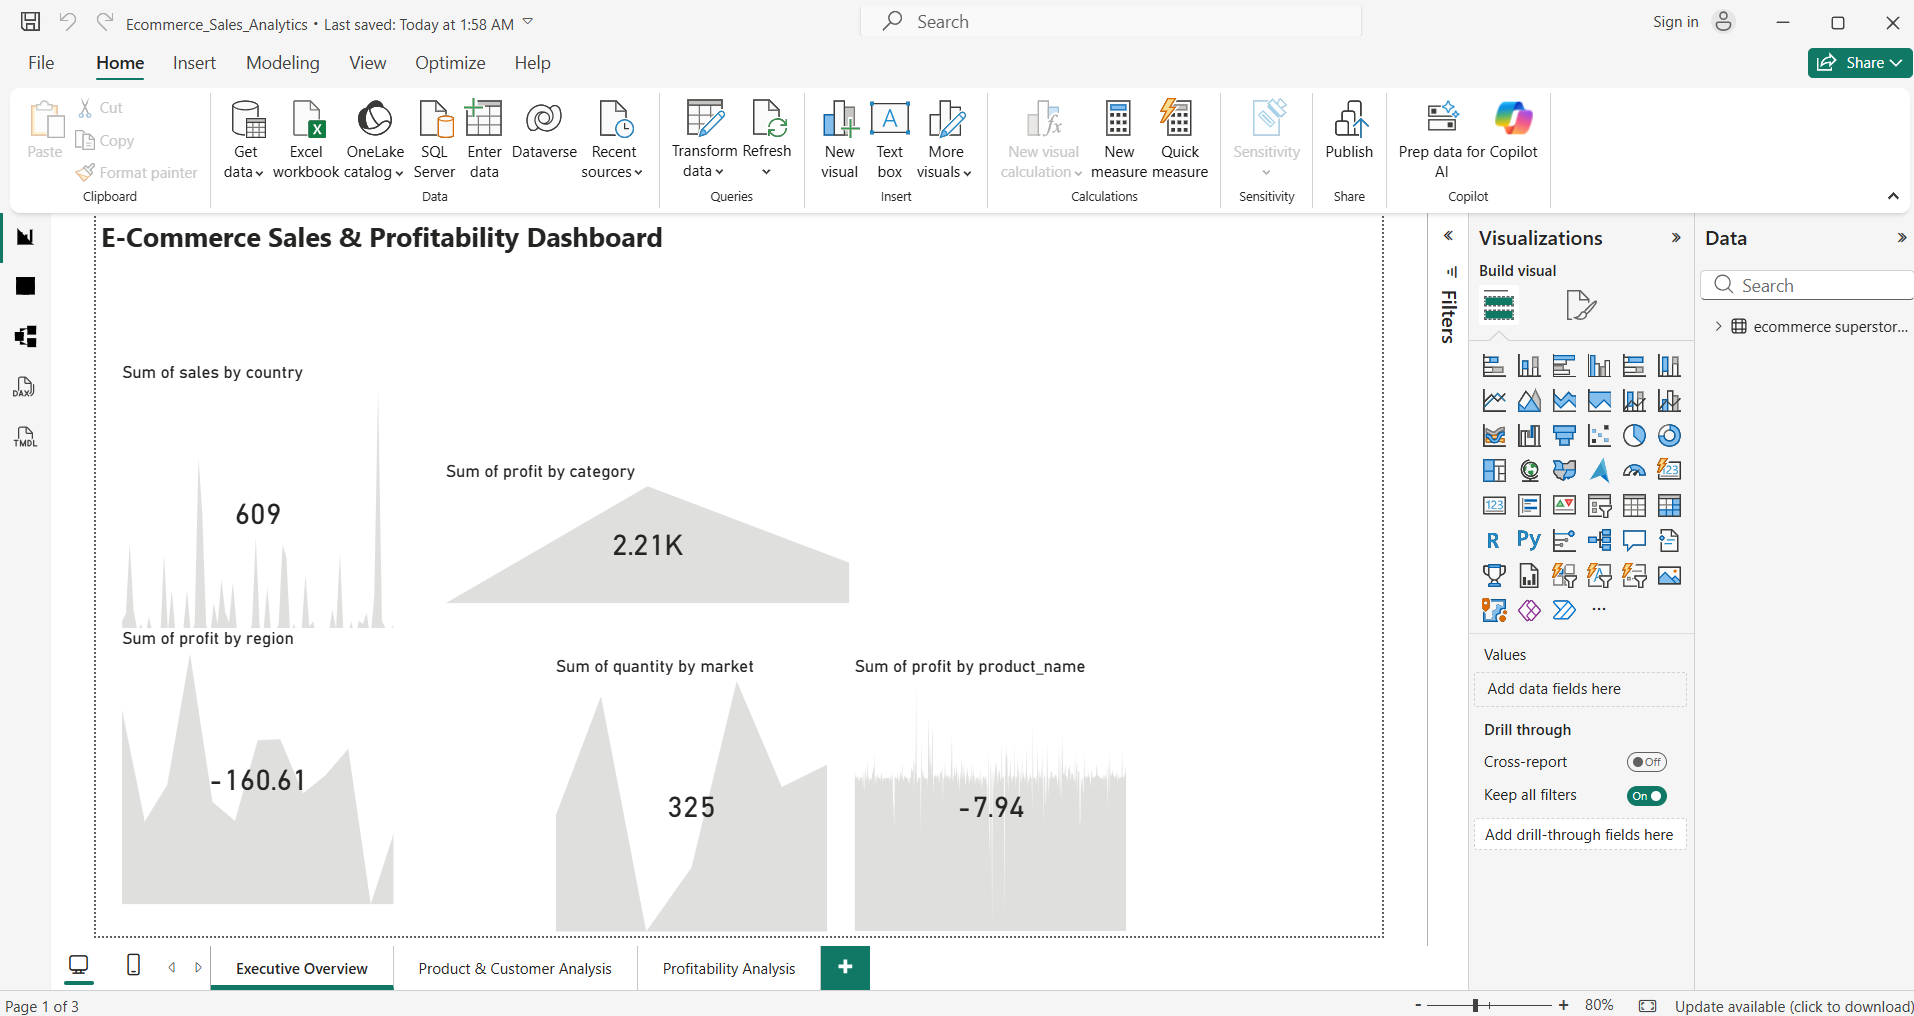

Layout of this report page (visuals, bound fields, positions):
{"tool":"powerbi","page":{"name":"Executive Overview","canvas":[1280,720],"ordinal":0},"visuals":[{"type":"kpi","fields":{"Indicator":["Sum(ecommerce superstoreorders.sales)"],"TrendLine":["ecommerce superstoreorders.country"]},"box":[21.4,148.6,280,281.4],"z":0},{"type":"kpi","fields":{"Indicator":["Sum(ecommerce superstoreorders.profit)"],"TrendLine":["ecommerce superstoreorders.region"]},"box":[21.4,412.9,280,280],"z":1000},{"type":"kpi","fields":{"TrendLine":["ecommerce superstoreorders.product_name"],"Indicator":["Sum(ecommerce superstoreorders.profit)"]},"box":[750,440.2,280.5,279.3],"z":2000},{"type":"kpi","fields":{"Indicator":["Sum(ecommerce superstoreorders.quantity)"],"TrendLine":["ecommerce superstoreorders.market"]},"box":[452.8,440.5,279.9,279.9],"z":3000},{"type":"kpi","fields":{"Indicator":["Sum(ecommerce superstoreorders.profit)"],"TrendLine":["ecommerce superstoreorders.category"]},"box":[342.9,245.7,411.4,147.1],"z":4000},{"type":"textbox","box":[0,0,684.3,117.1],"z":5000}]}

Visuals, with their boxes on the page's 1280x720 design canvas (x1, y1, x2, y2). These are canvas units, not pixel positions in the 1914x1016 screenshot, which may show the page scaled, cropped or inside an application window:
kpi - Sum(ecommerce superstoreorders.sales) x ecommerce superstoreorders.country: 21 149 301 430
kpi - Sum(ecommerce superstoreorders.profit) x ecommerce superstoreorders.region: 21 413 301 693
kpi - ecommerce superstoreorders.product_name x Sum(ecommerce superstoreorders.profit): 750 440 1030 720
kpi - Sum(ecommerce superstoreorders.quantity) x ecommerce superstoreorders.market: 453 440 733 720
kpi - Sum(ecommerce superstoreorders.profit) x ecommerce superstoreorders.category: 343 246 754 393
textbox: 0 0 684 117
